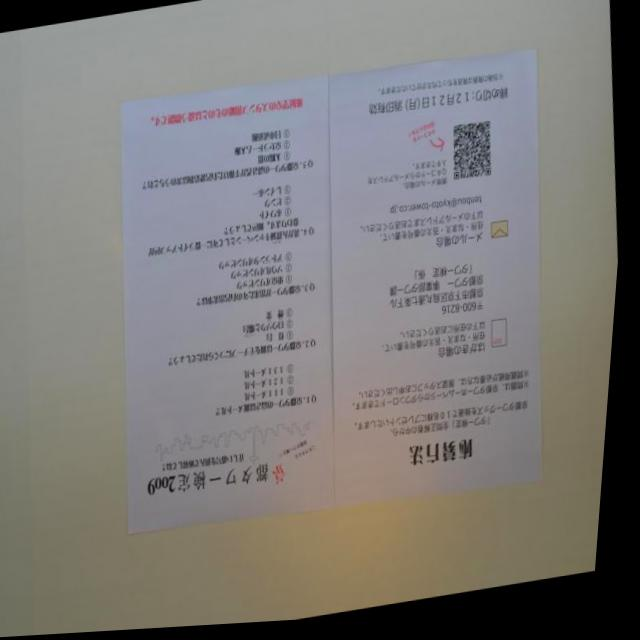qrcode: (451, 127, 497, 186)
